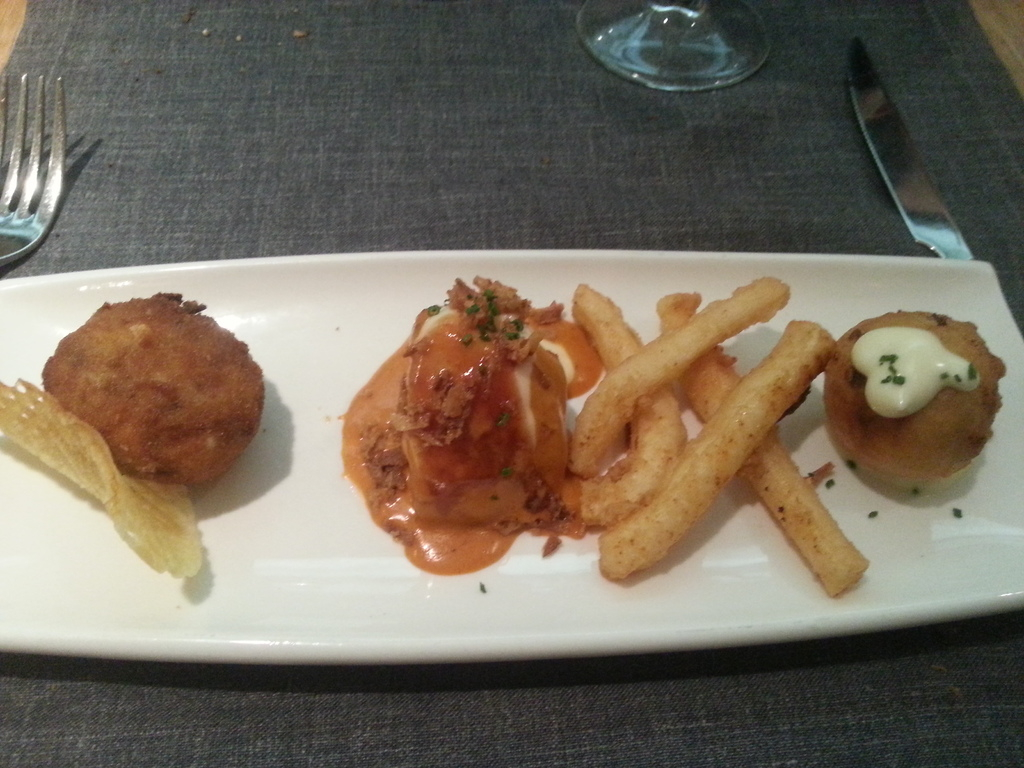French fries: (520, 256, 872, 588)
